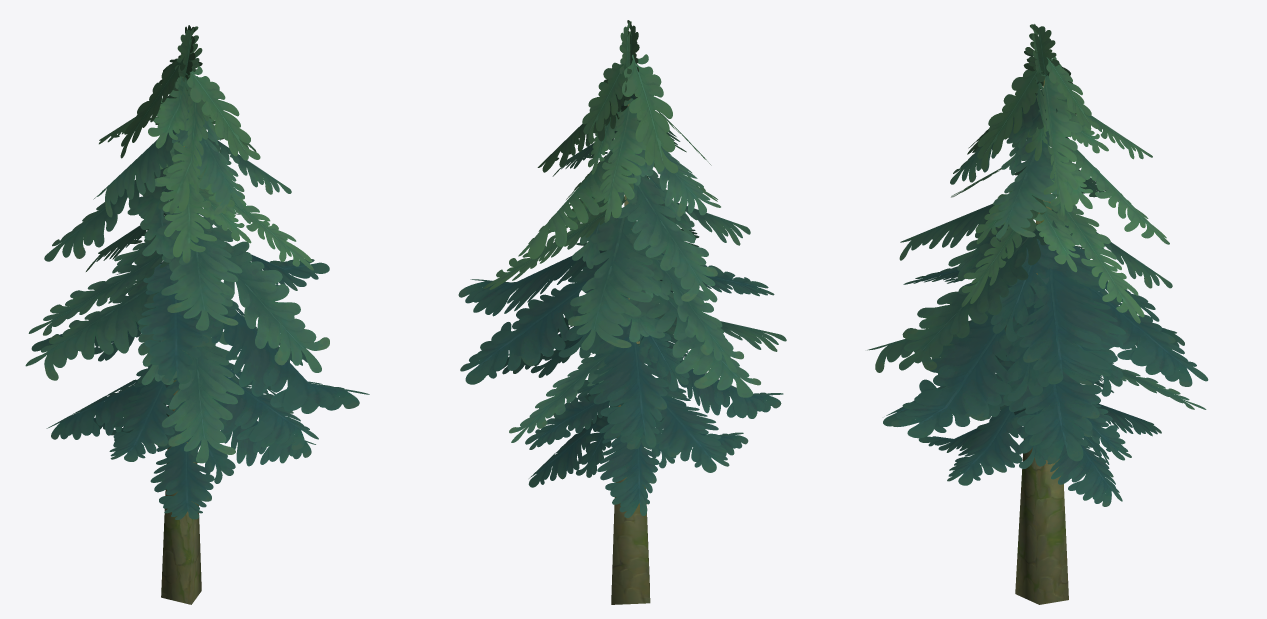
The model's file is m_env_collect_tree_cedar_04_lod3.FBX.
The picture shows the model from 3 angles, left to right: view 1: azimuth 30°, elevation 25°; view 2: azimuth 150°, elevation 25°; view 3: azimuth 270°, elevation 25°; orthographic projection.
Visible parts, largest first — view 1: m_env_collect_tree_cedar_04_lod3; view 2: m_env_collect_tree_cedar_04_lod3; view 3: m_env_collect_tree_cedar_04_lod3.
Part boxes in pixels (x1,y1,x2,y2): m_env_collect_tree_cedar_04_lod3: (25,25,369,604); m_env_collect_tree_cedar_04_lod3: (458,20,786,604); m_env_collect_tree_cedar_04_lod3: (867,24,1208,604).
Bounding box in the file's own units: 314 × 554 × 351.
